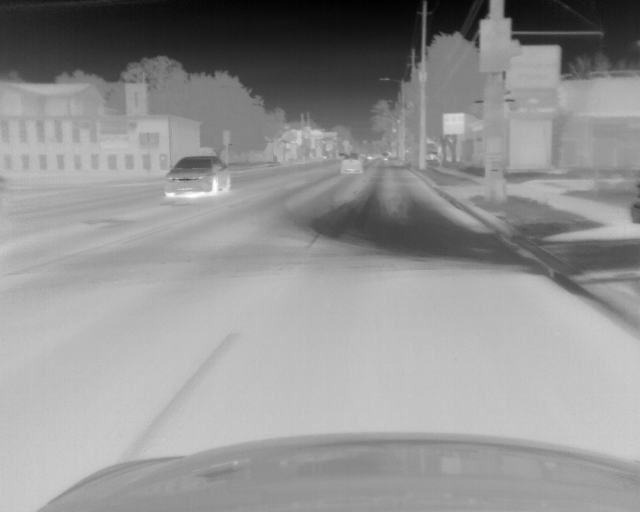car: (163, 155, 230, 199), (338, 155, 363, 175)
